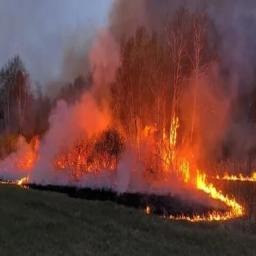Low smoke: (100, 1, 254, 100)
Medium fire: (132, 102, 182, 176), (61, 132, 131, 175)
Small fire: (170, 161, 256, 224), (16, 138, 42, 177)
